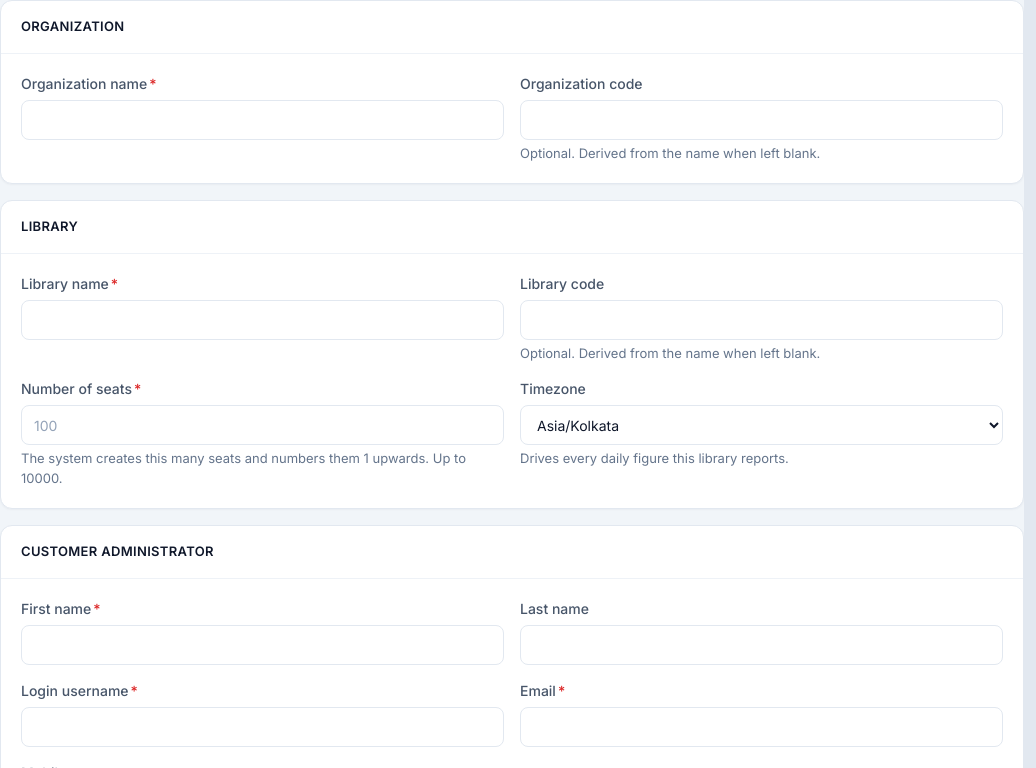
Test: CustomerOnboardingForm - number of seats › rejects zero
The image size is (1036, 768).
Type "Customer A" into the field labelled "Organization name*".
click(262, 120); type("Customer A")  # box [21,100,504,140]
Type "Library A" into the field labelled "Library name*".
click(262, 320); type("Library A")  # box [21,300,504,340]
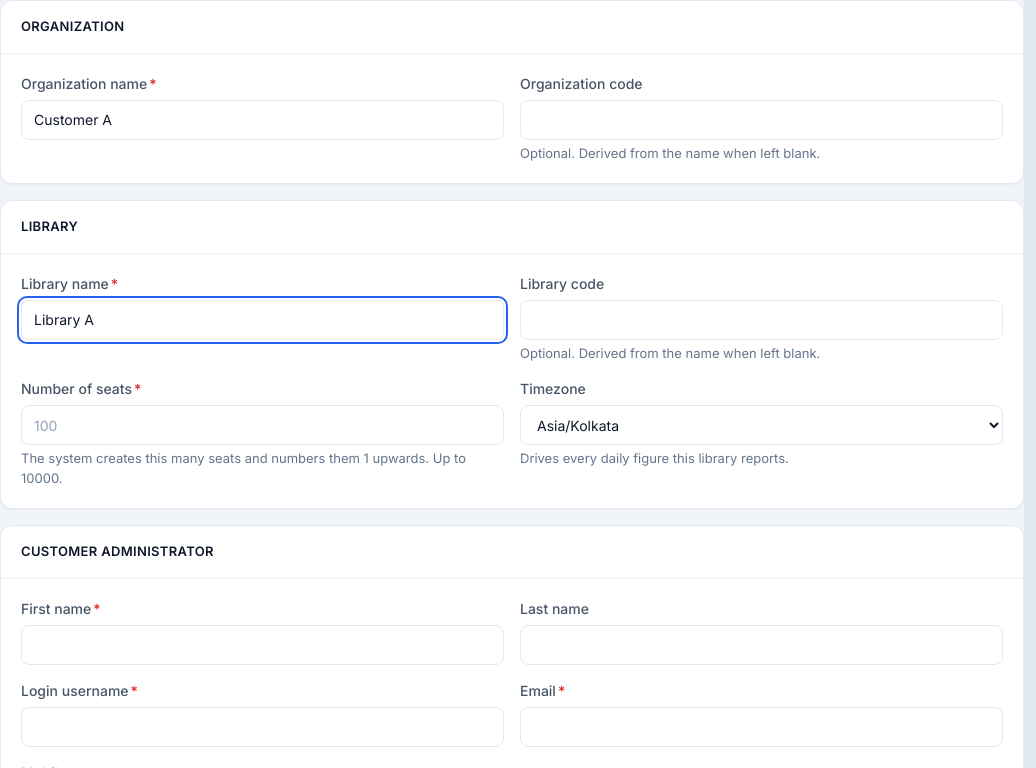
Type "Asha" into the field labelled "First name*".
click(262, 644); type("Asha")  # box [21,624,504,664]
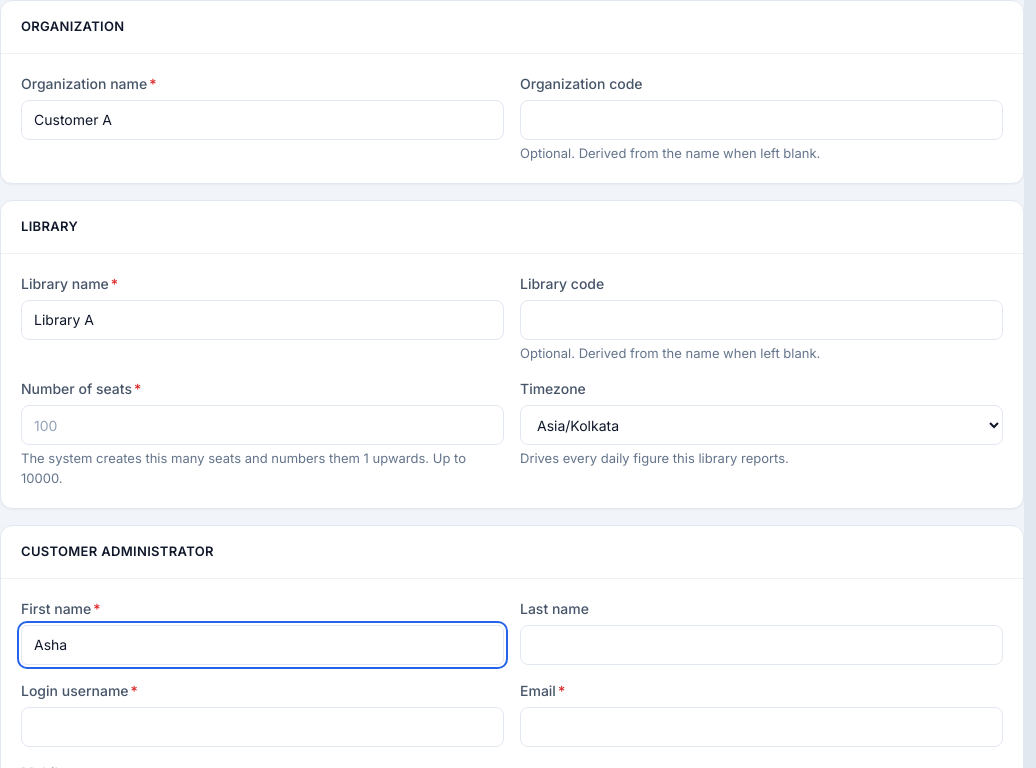
Type "admina" into the field labelled "Login username*".
click(262, 726); type("admina")  # box [21,706,504,746]
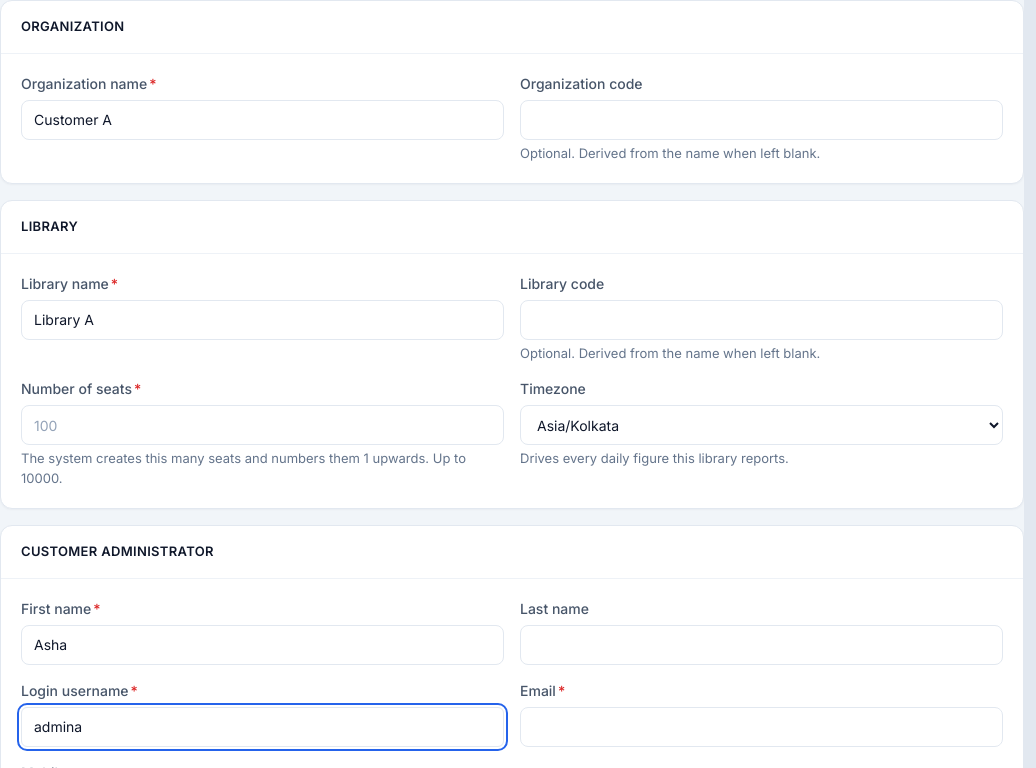
Type "admina@customer.example" into the field labelled "Email*".
click(762, 726); type("admina@customer.example")  # box [520,706,1003,746]
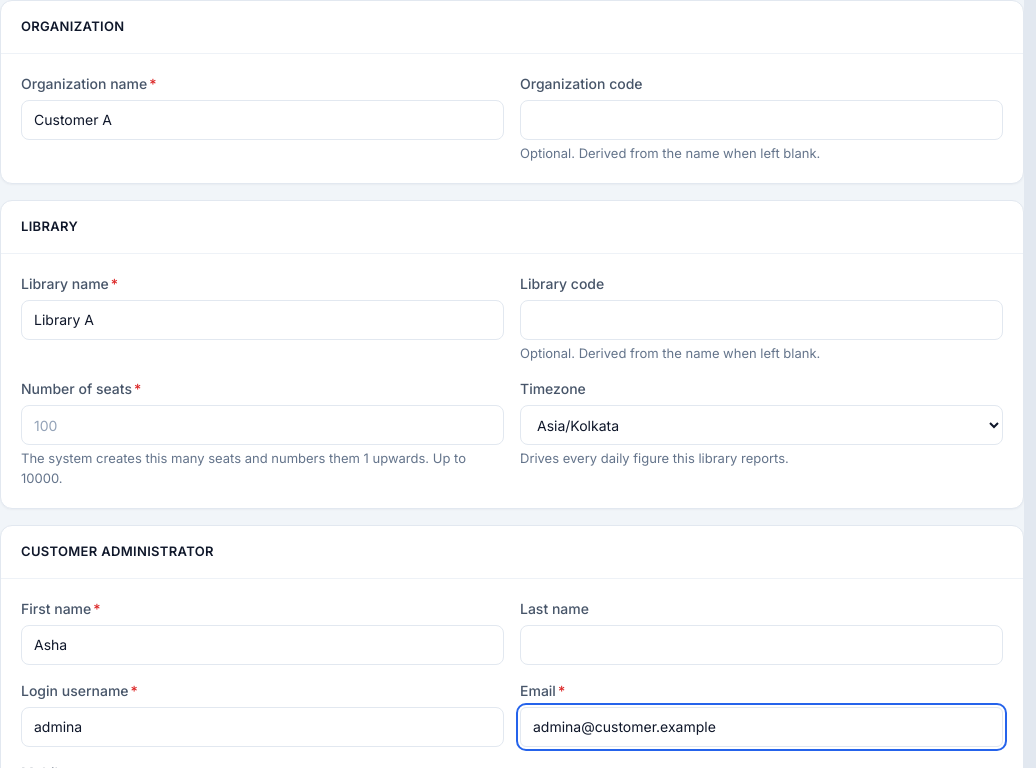
Type "0" into the number field labelled "Number of seats*".
click(262, 425); type("0")  # box [21,405,504,445]
(page scrolled)
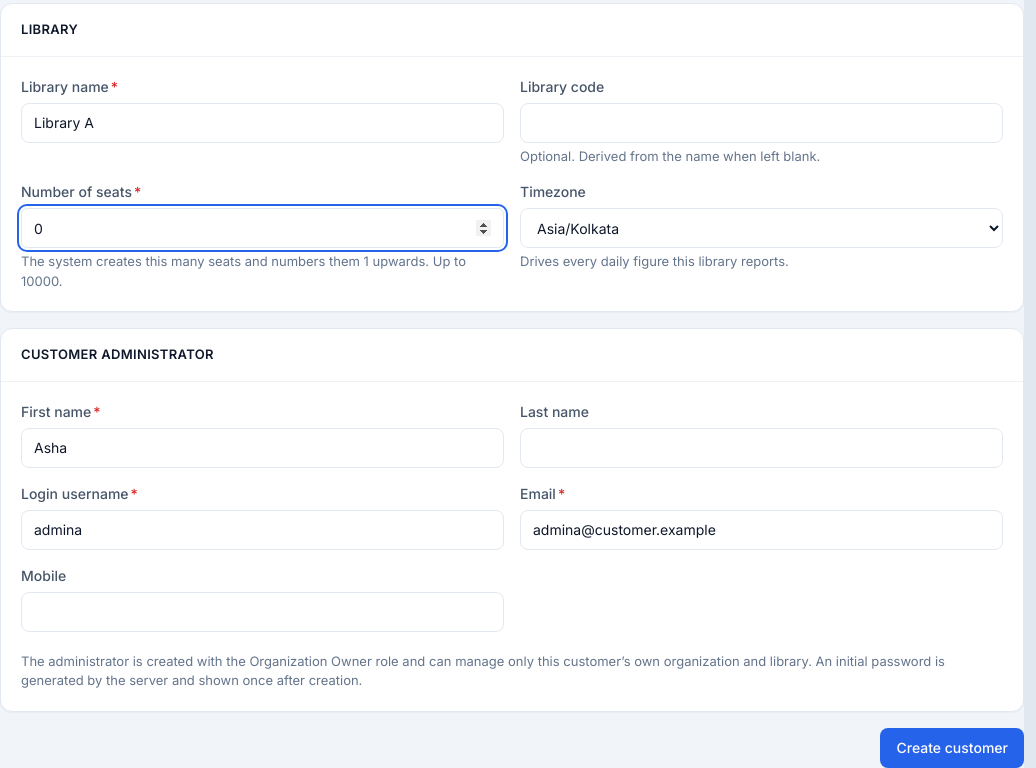
Click the button "Create customer".
click(952, 748)  # box [880,728,1024,767]
(page scrolled)
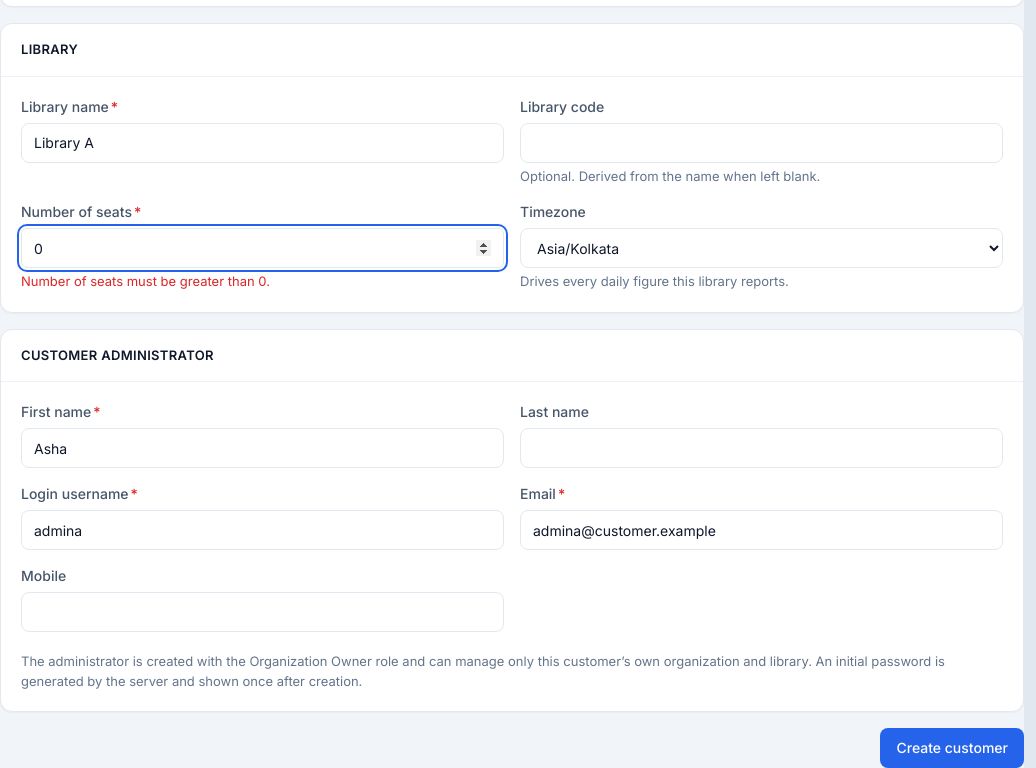
Check: the text "Number of seats must be greater than 0." is shown, box [21,273,270,289]
